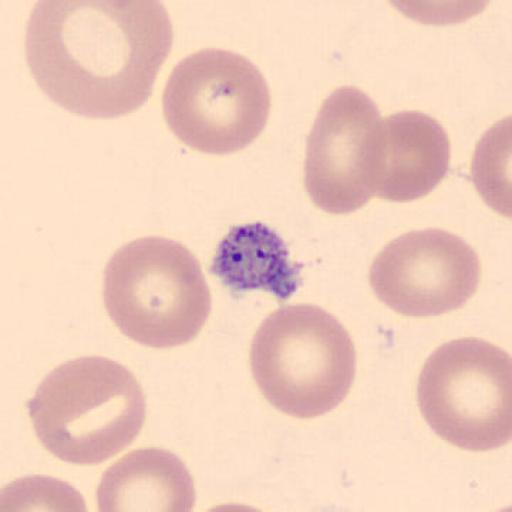Platelet: (205, 217, 308, 305)
RBC: (22, 0, 172, 121), (28, 354, 148, 468), (100, 233, 214, 351), (247, 301, 359, 421), (162, 46, 272, 157), (414, 334, 512, 454), (300, 84, 388, 216), (367, 225, 482, 319), (360, 107, 452, 205), (94, 444, 198, 512), (469, 113, 512, 220), (1, 471, 91, 512), (381, 0, 497, 27), (185, 500, 289, 512)
